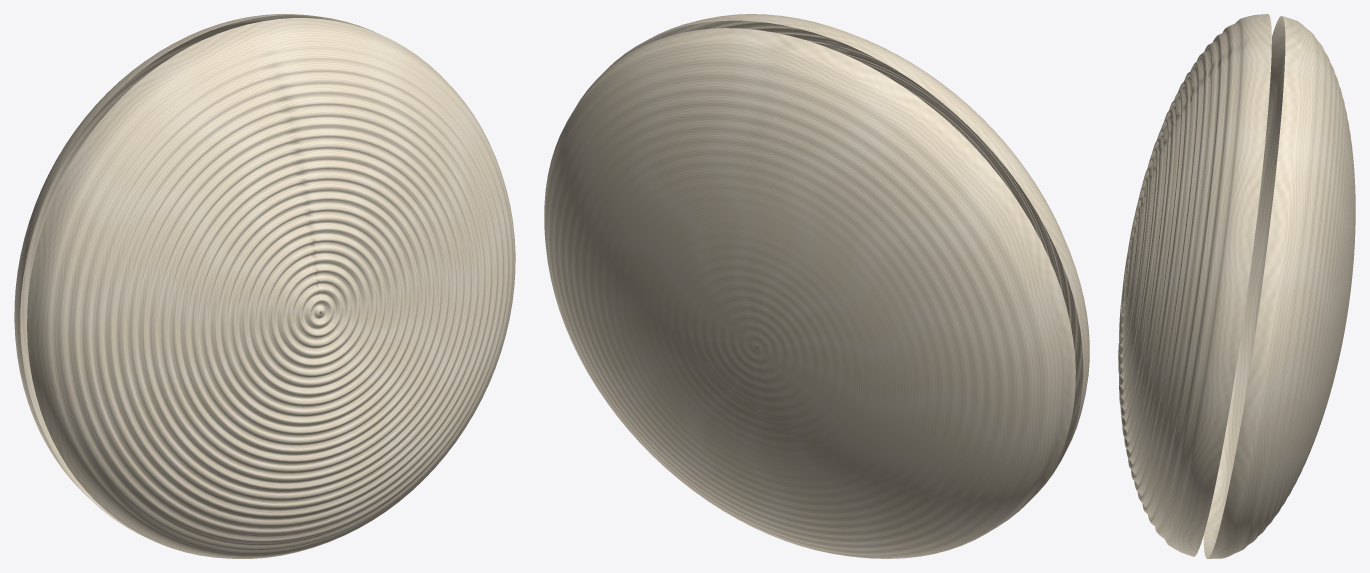
File: clam.glb
3 views of the same model, side by side, from view 1: azimuth 30°, elevation 25°; view 2: azimuth 150°, elevation 25°; view 3: azimuth 270°, elevation 25° (orthographic). The views are drawn at different scales.
Parts seen in each view (by area): view 1: clam.001; view 2: clam.001; view 3: clam.001.
Part boxes in pixels (x1,y1,x2,y2): clam.001: [14, 14, 515, 558]; clam.001: [544, 14, 1089, 558]; clam.001: [1118, 14, 1355, 558].
Size of the model in its own units: 2.38 by 2.36 by 1.03.
2 materials, 2 textured.
